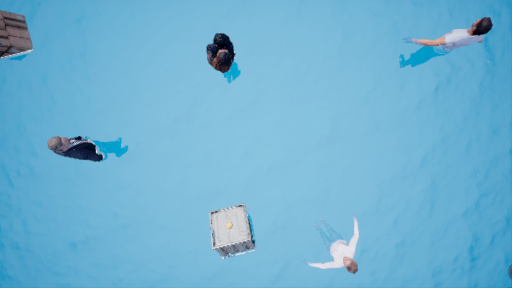person: (399, 16, 492, 75), (302, 214, 373, 273), (47, 131, 140, 166), (202, 34, 243, 94)
